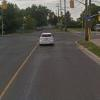Car: (35, 27, 57, 52)
